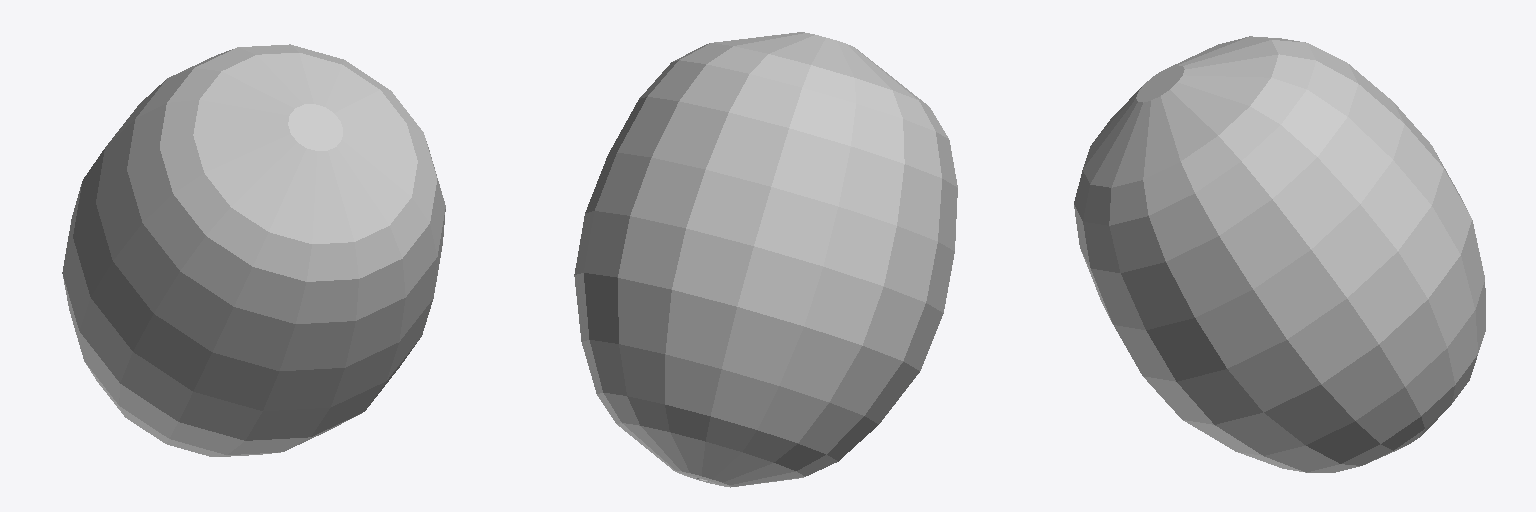
The model's file is Sandia.obj.
3 views of the same model, side by side, from view 1: azimuth 30°, elevation 25°; view 2: azimuth 150°, elevation 25°; view 3: azimuth 270°, elevation 25° (orthographic).
Visible parts, largest first — view 1: Sandias.001_avocado.002; view 2: Sandias.001_avocado.002; view 3: Sandias.001_avocado.002.
Part boxes in pixels (bbox=[...]): Sandias.001_avocado.002: bbox=[62, 44, 445, 456]; Sandias.001_avocado.002: bbox=[574, 32, 957, 487]; Sandias.001_avocado.002: bbox=[1074, 36, 1485, 472].
Bounding box in the file's own units: 0.2763 × 0.3291 × 0.3052.